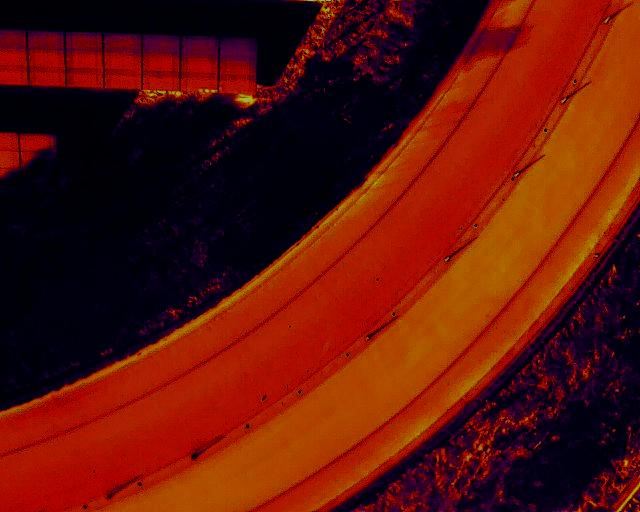Cell-Multi: (181, 74, 218, 92)
No-Anomaly: (218, 37, 257, 60), (142, 36, 181, 56), (104, 34, 141, 55), (142, 56, 180, 76), (182, 37, 220, 57), (182, 56, 218, 77), (27, 31, 66, 50), (66, 51, 103, 71), (65, 32, 103, 51), (103, 55, 143, 72), (219, 75, 254, 93), (104, 72, 141, 89), (28, 51, 65, 68), (219, 60, 256, 77), (142, 76, 179, 92), (28, 70, 65, 86), (67, 72, 104, 87)
Shadowing: (21, 151, 56, 171), (19, 135, 56, 151), (21, 172, 58, 188)
